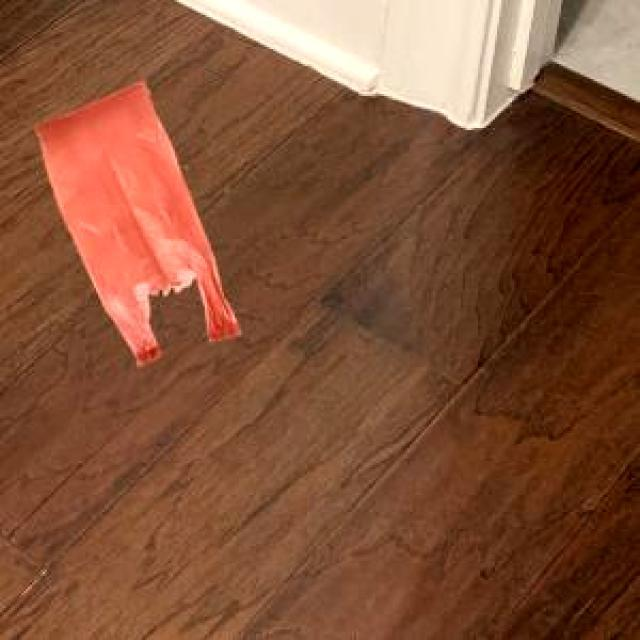Plastic_Bag: (33, 80, 236, 362)
